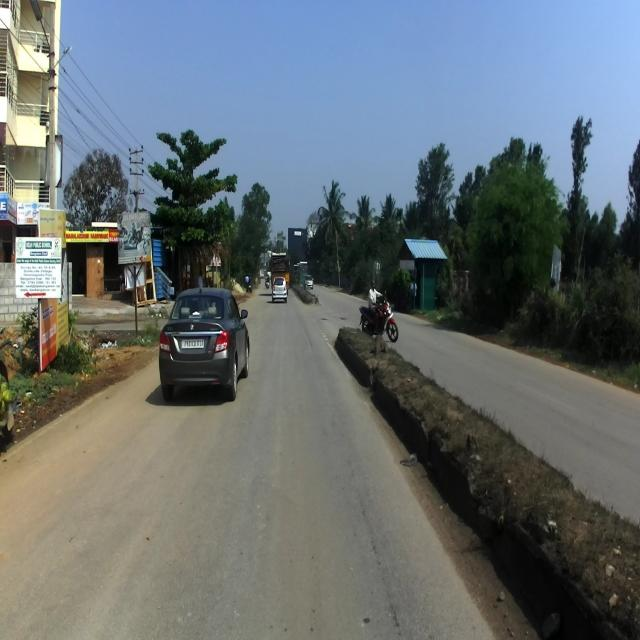car: (158, 282, 250, 403), (271, 276, 288, 302), (303, 274, 313, 290)
motorcycle: (359, 289, 398, 343)
